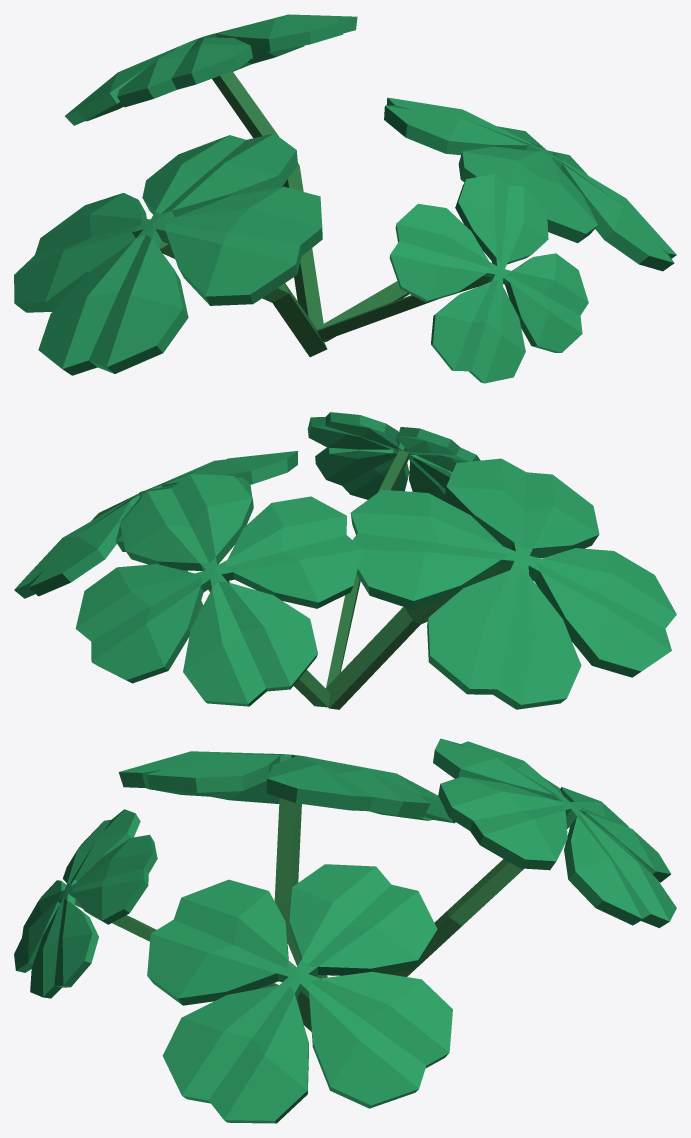
Rendered from 3D_Model_Clover_LP_v1.fbx.
3 renders of one model, top to bottom at view 1: azimuth 30°, elevation 25°; view 2: azimuth 150°, elevation 25°; view 3: azimuth 270°, elevation 25°, orthographic. The views are drawn at different scales.
Visible parts, largest first — view 1: clover_01; view 2: clover_01; view 3: clover_01.
Boxes of the visible parts, bbox=[...] form: clover_01: bbox=[14, 14, 676, 383]; clover_01: bbox=[14, 412, 676, 709]; clover_01: bbox=[14, 738, 676, 1123].
Bounding box in the file's own units: 209 × 87.89 × 193.
